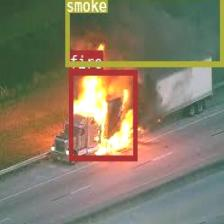fire: (68, 69, 136, 160)
smoke: (64, 0, 222, 65)
